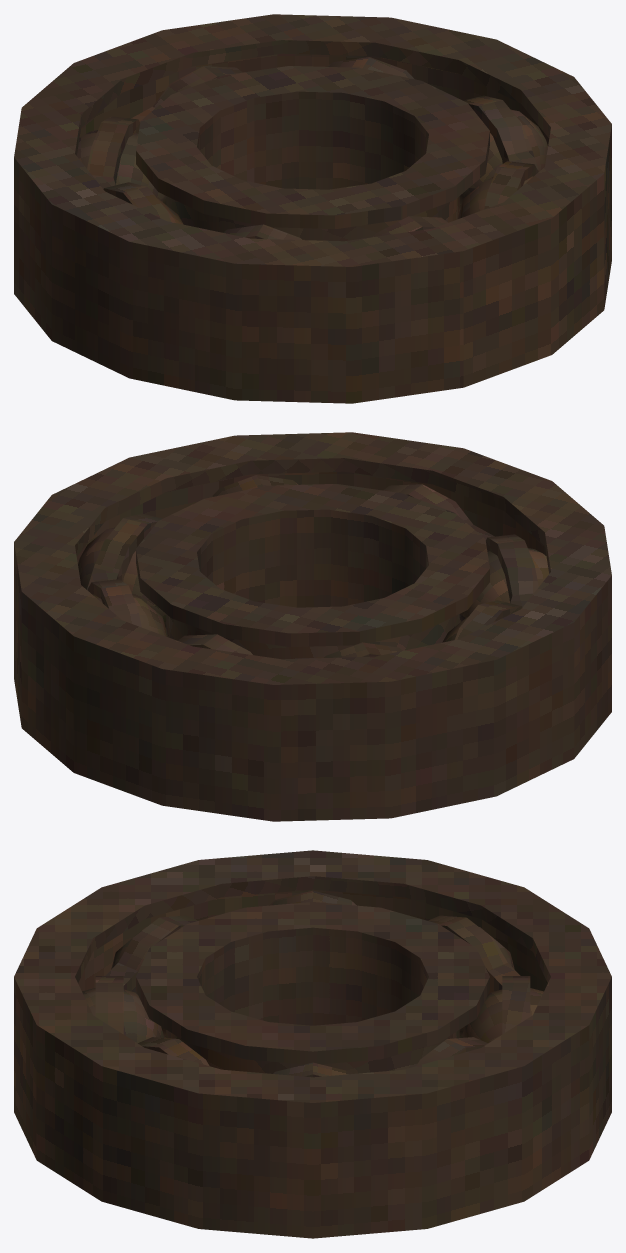
The model's file is ball_bearing_mx_1_small.glb.
The picture shows the model from 3 angles, top to bottom: view 1: azimuth 30°, elevation 25°; view 2: azimuth 150°, elevation 25°; view 3: azimuth 270°, elevation 25°; orthographic projection.
Visible parts, largest first — view 1: ball_bearing_mx_1_small; view 2: ball_bearing_mx_1_small; view 3: ball_bearing_mx_1_small.
Part boxes in pixels (x1,y1,x2,y2): ball_bearing_mx_1_small: (14, 14, 611, 403); ball_bearing_mx_1_small: (14, 432, 611, 821); ball_bearing_mx_1_small: (14, 850, 611, 1238).
Size of the model in its own units: 0.1 by 0.025 by 0.1.
Materials: 1 (1 with a texture image).
